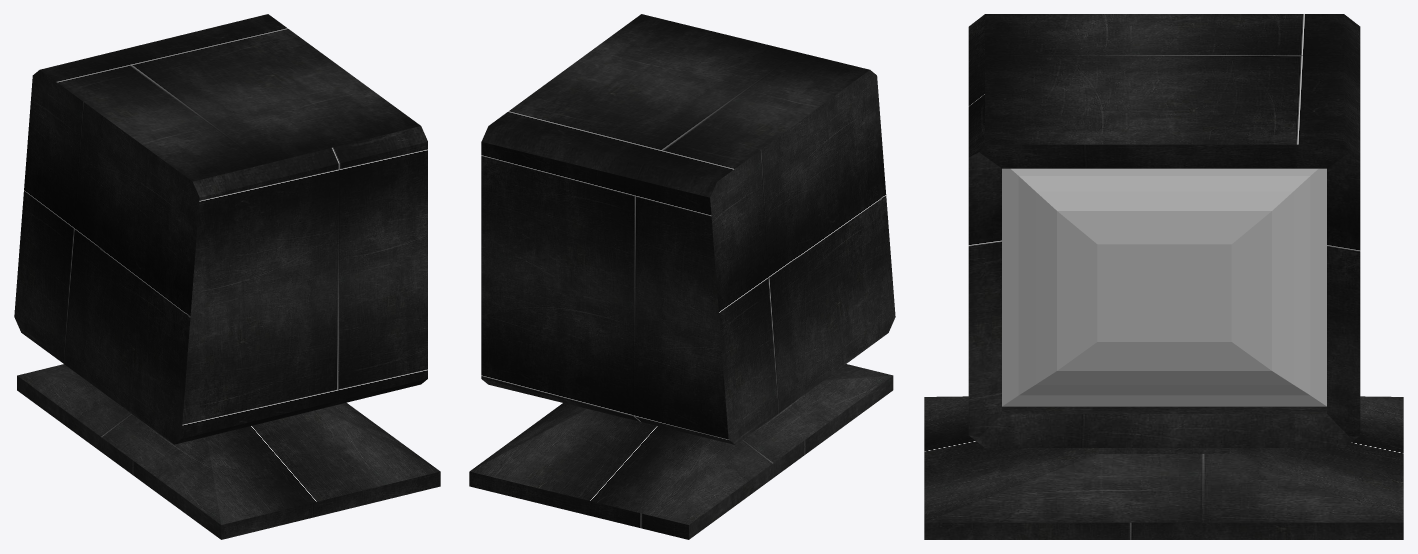
Rendered from computer lain.fbx.
The picture shows the model from 3 angles, left to right: view 1: azimuth 30°, elevation 25°; view 2: azimuth 150°, elevation 25°; view 3: azimuth 270°, elevation 25°; orthographic projection. The views are drawn at different scales.
Parts seen in each view (by area): view 1: Cube; view 2: Cube; view 3: Cube.
Part boxes in pixels (x1=…): Cube: x1=14, y1=14, x2=440, y2=539; Cube: x1=469, y1=14, x2=895, y2=539; Cube: x1=924, y1=14, x2=1403, y2=539.
Bounding box in the file's own units: 200 × 263 × 287.
